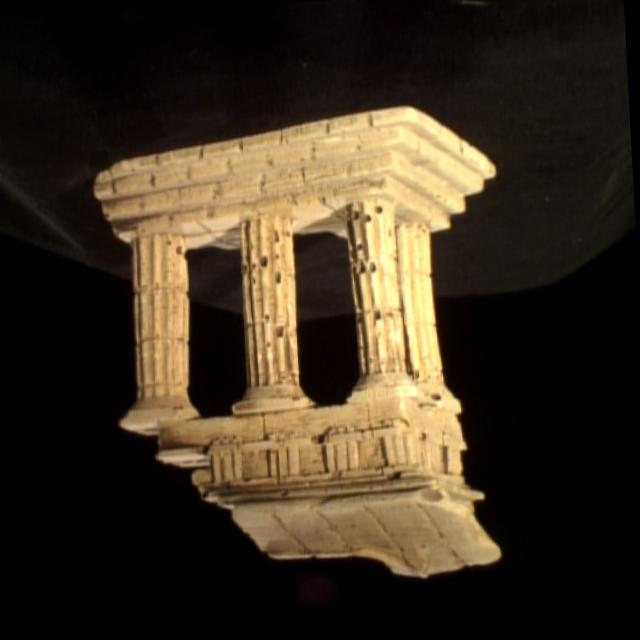Instance-Segmentation: (95, 107, 501, 576)
